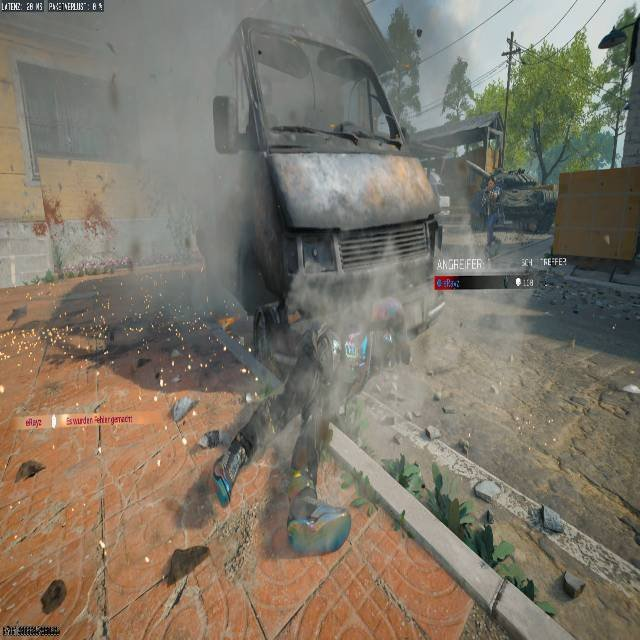player: (471, 173, 507, 257)
